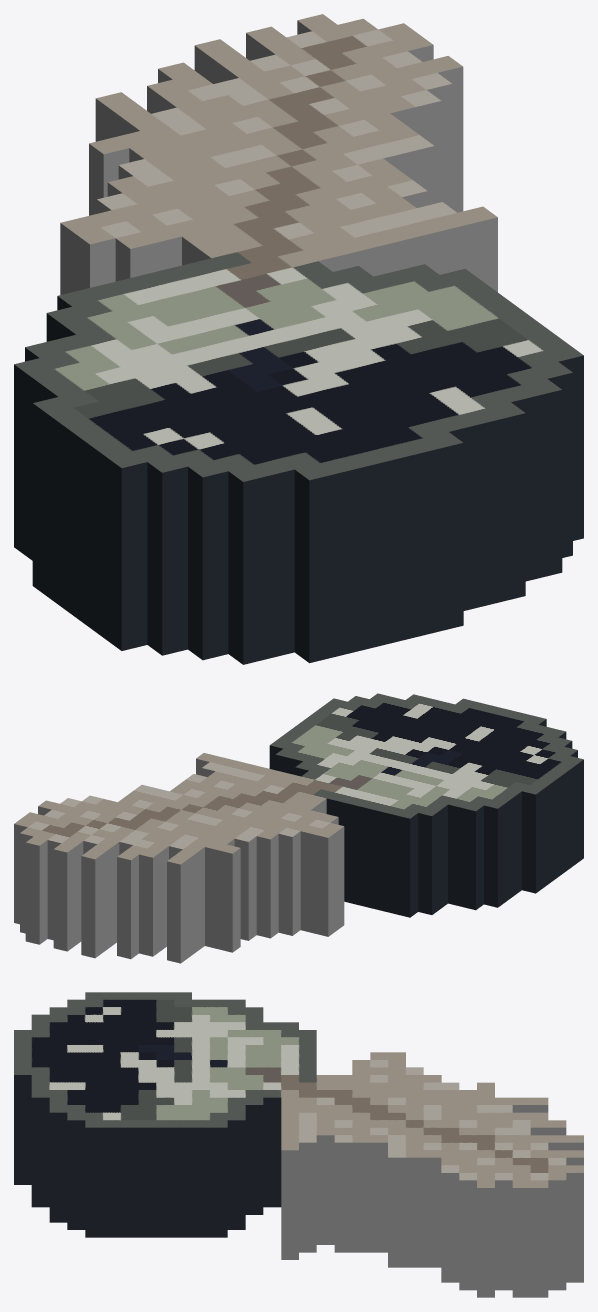
The model's file is ink_quill1.glb.
The picture shows the model from 3 angles, top to bottom: view 1: azimuth 30°, elevation 25°; view 2: azimuth 150°, elevation 25°; view 3: azimuth 270°, elevation 25°; orthographic projection. The views are drawn at different scales.
Visible parts, largest first — view 1: ink_quill1-1; view 2: ink_quill1-1; view 3: ink_quill1-1.
Boxes of the visible parts, x1,y1,x2,y2 form: ink_quill1-1: [14, 14, 583, 664]; ink_quill1-1: [14, 693, 583, 963]; ink_quill1-1: [14, 992, 583, 1297].
Bounding box in the file's own units: 0.8125 × 0.2127 × 1.
3 materials, 1 textured.
